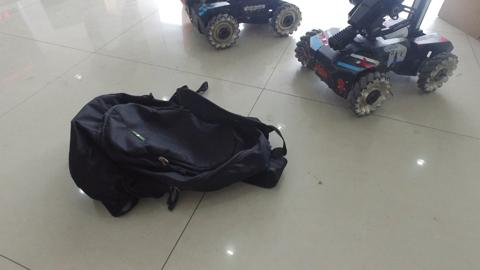bag: (67, 87, 291, 216)
chariot: (300, 1, 462, 119), (183, 1, 303, 45)
